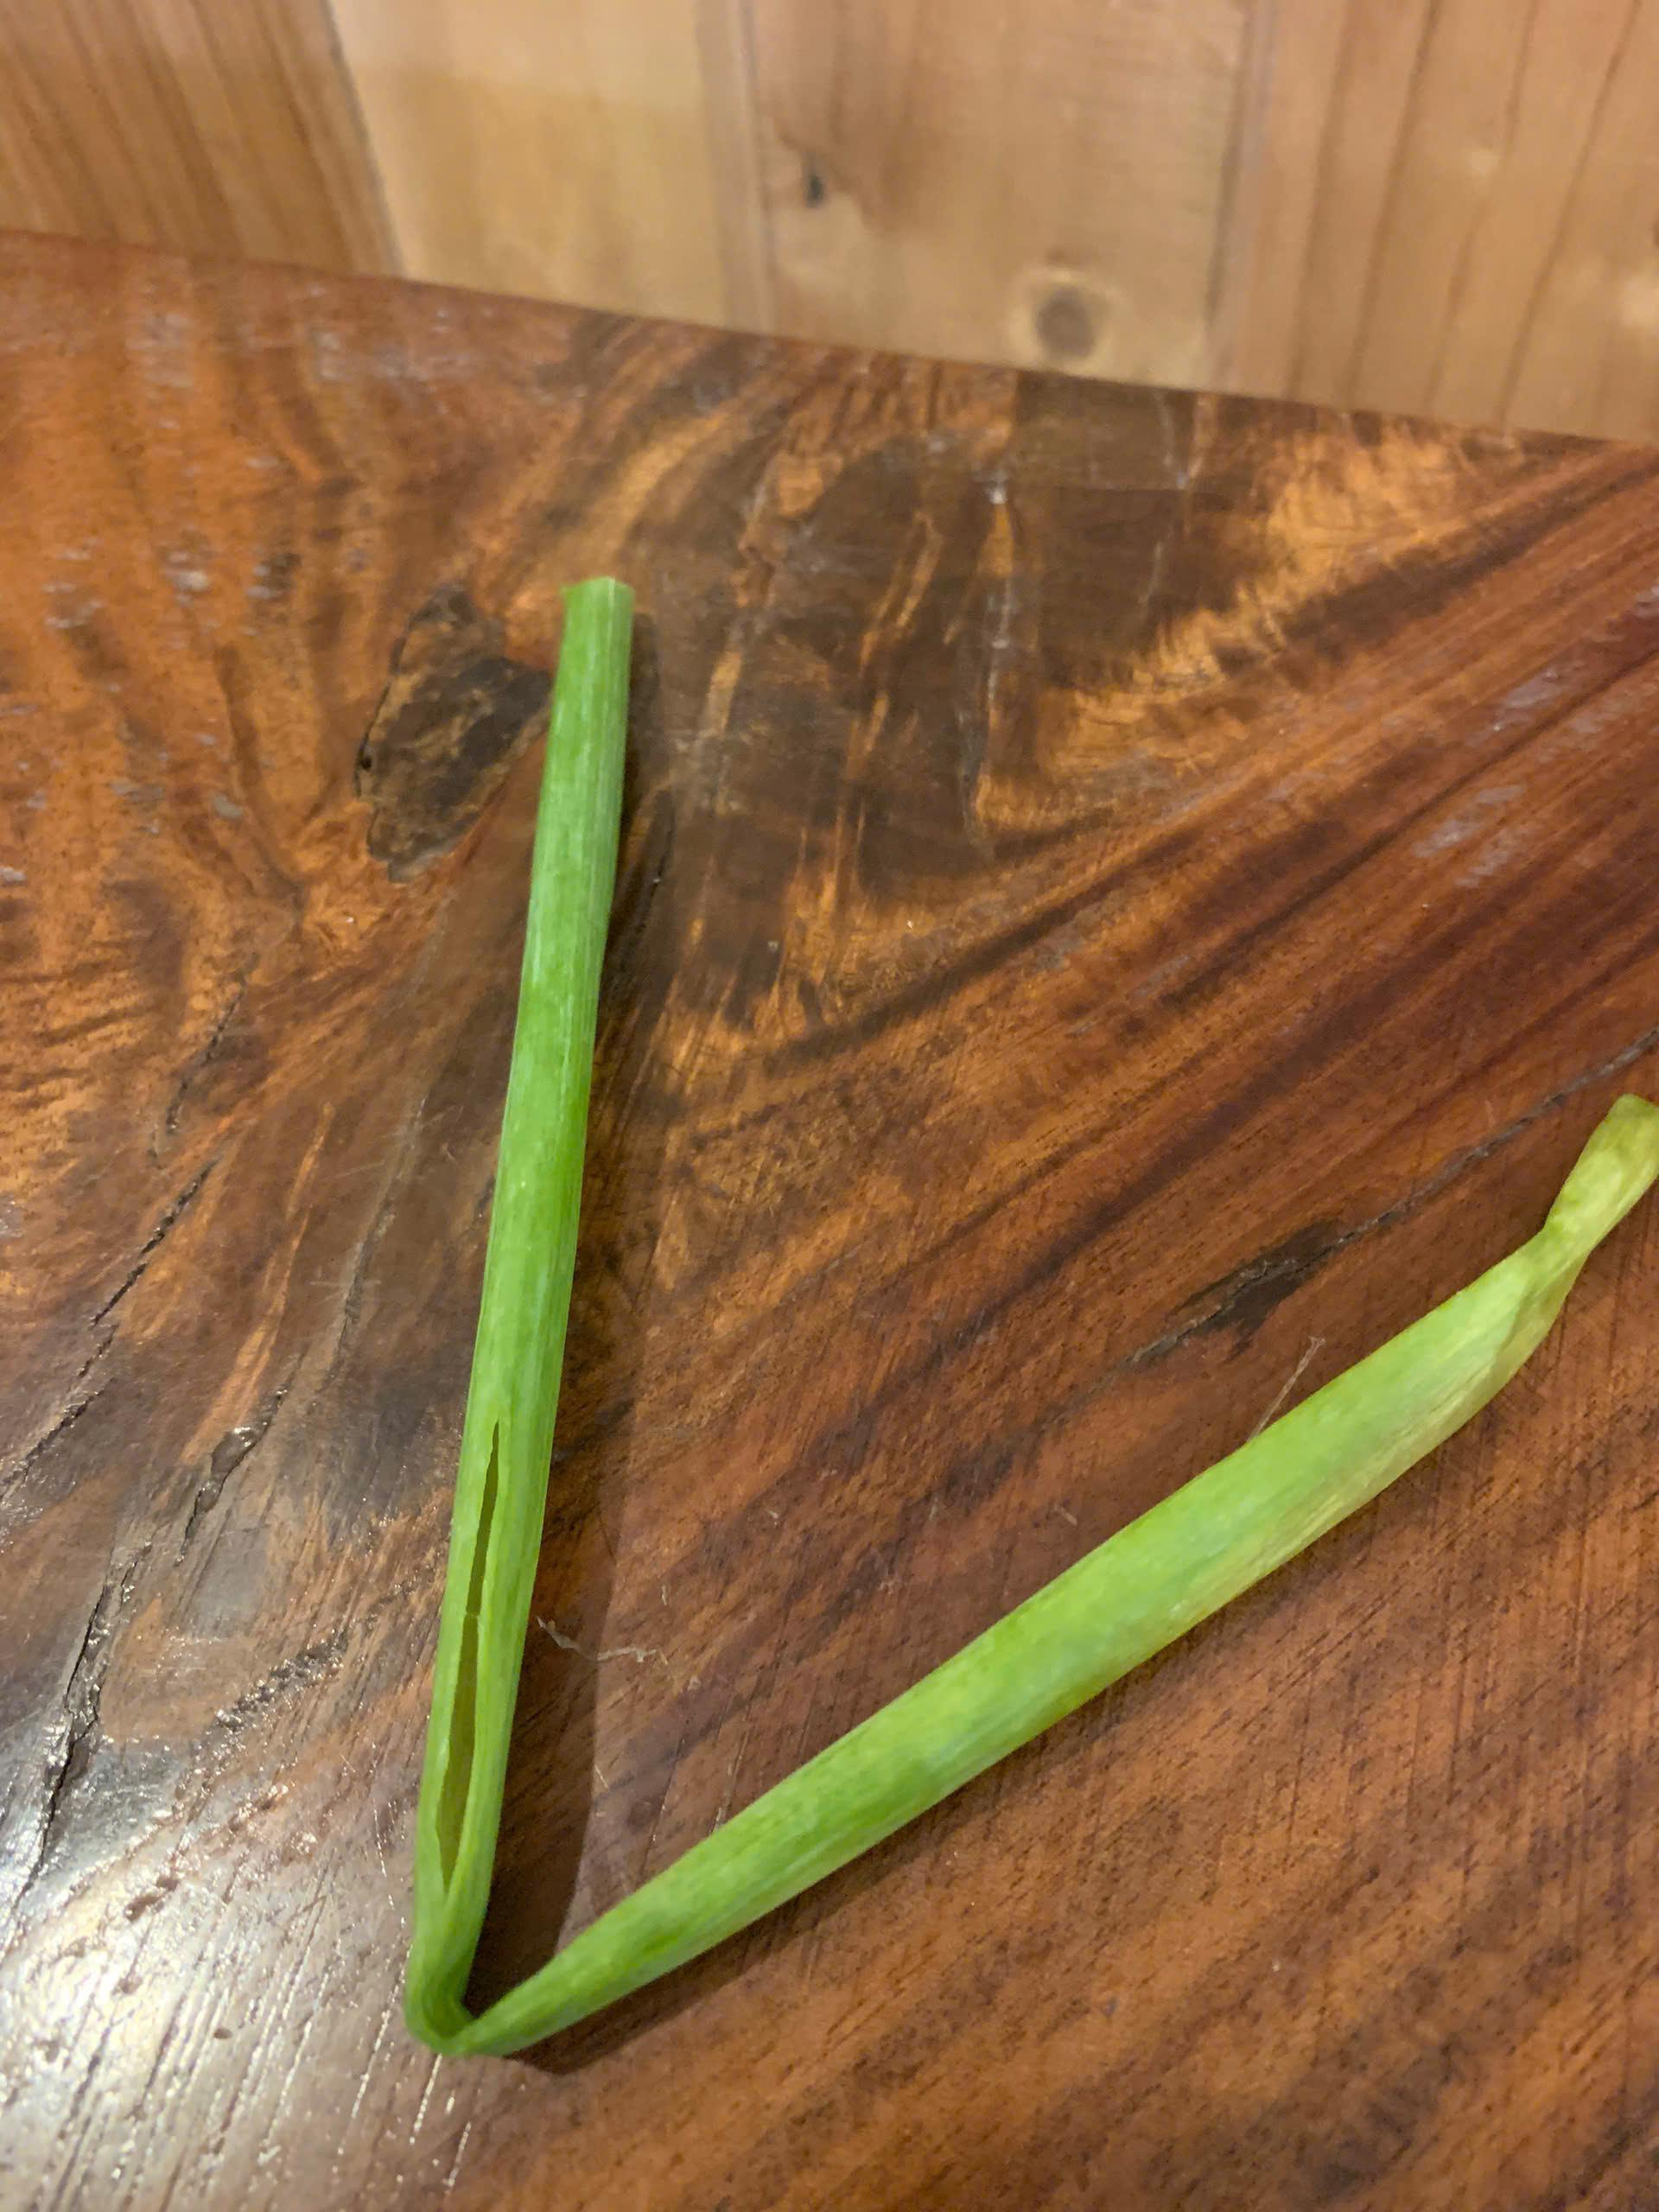Huu co: (406, 597, 1659, 2047)
